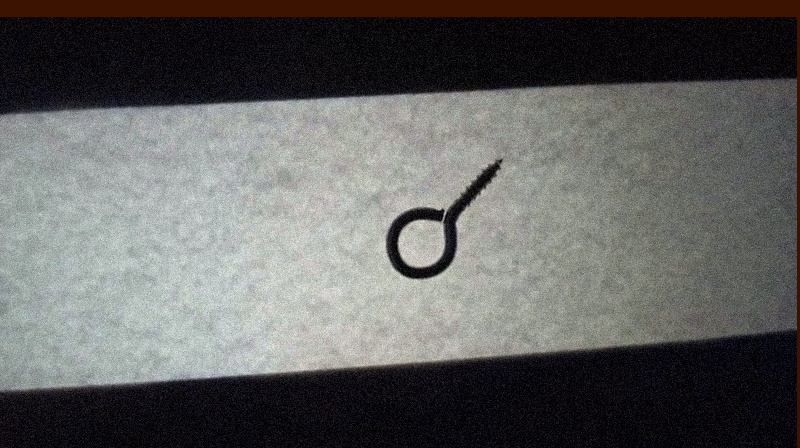O001: (383, 152, 504, 281)
